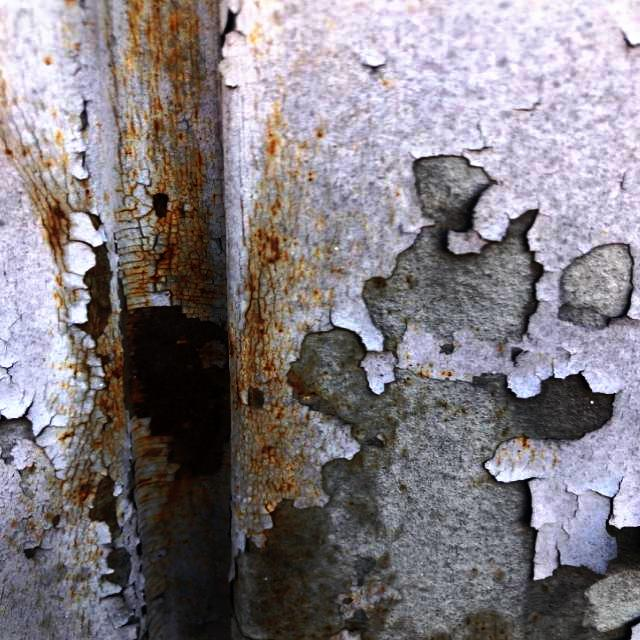Corrosion: (120, 290, 236, 484), (116, 212, 217, 317), (39, 198, 67, 255), (253, 225, 289, 266), (152, 193, 169, 218), (78, 483, 94, 504)
